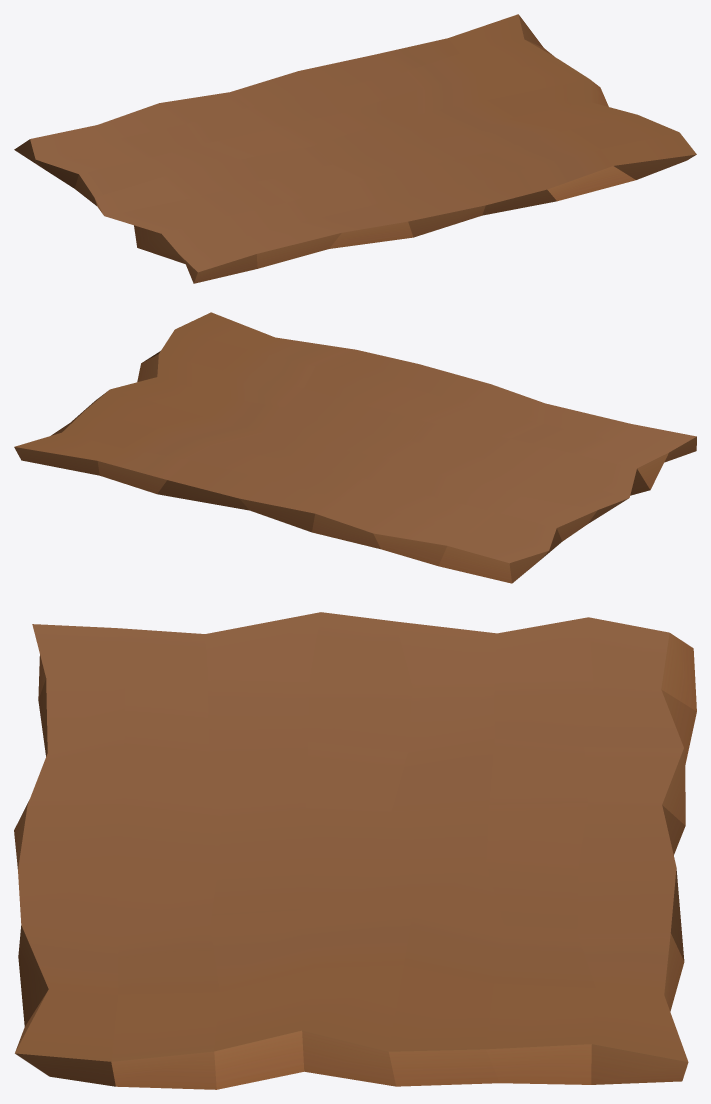
The model's file is Wood Table con UV 2.fbx.
3 views of the same model, one above another, from view 1: azimuth 30°, elevation 25°; view 2: azimuth 150°, elevation 25°; view 3: azimuth 270°, elevation 25° (orthographic). The views are drawn at different scales.
Parts seen in each view (by area): view 1: Cube.006; view 2: Cube.006; view 3: Cube.006.
Boxes of the visible parts, x1=… form: Cube.006: x1=14, y1=14, x2=696, y2=283; Cube.006: x1=14, y1=312, x2=696, y2=583; Cube.006: x1=14, y1=612, x2=696, y2=1089.
Bounding box in the file's own units: 686 × 17.84 × 436.
